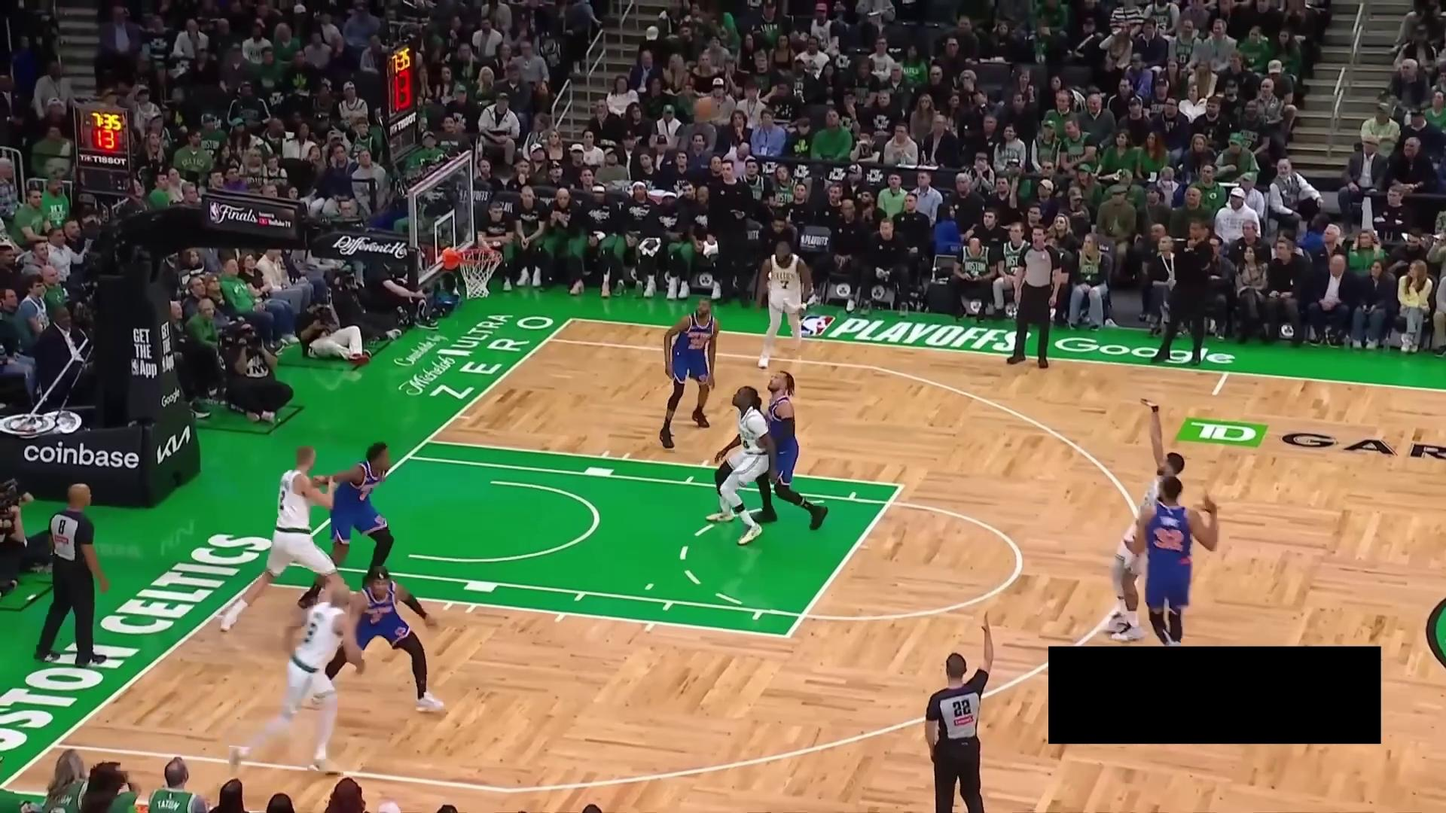ball: (693, 96, 715, 120)
number: (1154, 526, 1184, 551), (304, 621, 318, 644), (688, 336, 707, 351), (279, 489, 287, 511), (779, 279, 790, 291), (742, 439, 750, 450)
player: (225, 576, 365, 781), (217, 443, 346, 634), (1103, 397, 1188, 644), (294, 439, 397, 607), (340, 562, 447, 714), (1126, 478, 1220, 647), (749, 369, 830, 531), (704, 385, 775, 546), (659, 296, 721, 450), (755, 239, 814, 370)
referee: (923, 608, 995, 813), (32, 483, 110, 668), (1006, 223, 1063, 370)
rim: (456, 248, 503, 265)
